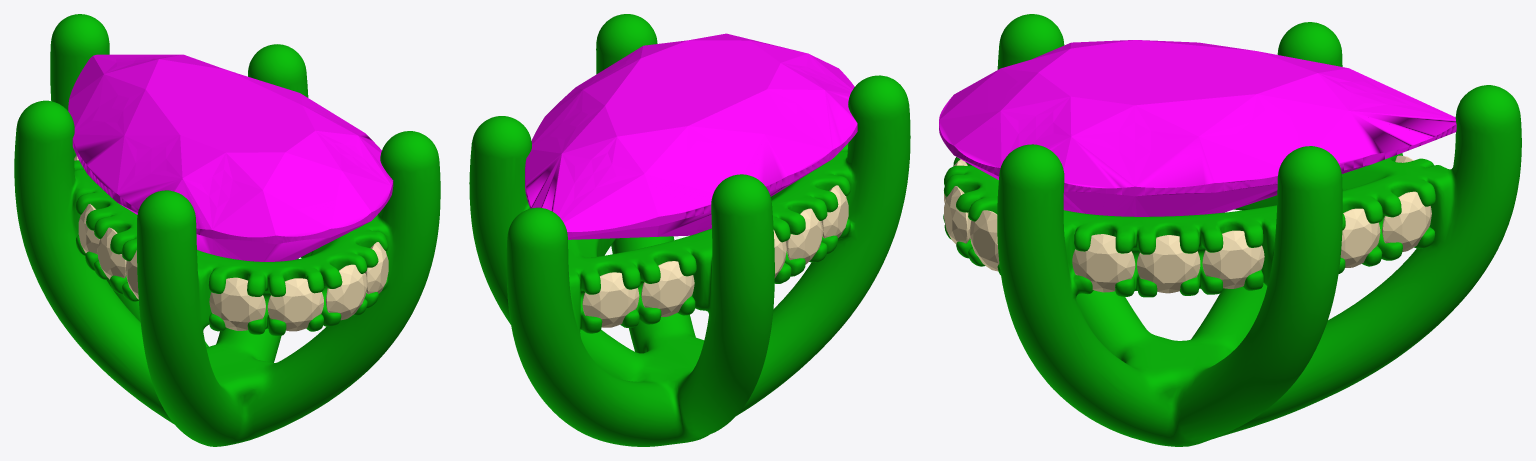
3 renders of one model, left to right at view 1: azimuth 30°, elevation 25°; view 2: azimuth 150°, elevation 25°; view 3: azimuth 270°, elevation 25°, orthographic. The views are drawn at different scales.
Visible parts, largest first — view 1: Metal01, Diamond_Pear, Diamond_Round.011, Diamond_Round.010, Diamond_Round.012, Diamond_Round.005, Diamond_Round.013, Diamond_Round.004; view 2: Metal01, Diamond_Pear, Diamond_Round.002, Diamond_Round.003, Diamond_Round.005, Diamond_Round.006; view 3: Metal01, Diamond_Pear, Diamond_Round.009, Diamond_Round.008, Diamond_Round.007, Diamond_Round.001, Diamond_Round, Diamond_Round.013, Diamond_Round.012.
Boxes of the visible parts, x1,y1,x2,y2 form: Metal01: (14,14,440,446); Diamond_Pear: (68,54,393,261); Diamond_Round.011: (267,278,323,331); Diamond_Round.010: (209,277,265,330); Diamond_Round.012: (325,264,367,320); Diamond_Round.005: (97,227,126,279); Diamond_Round.013: (365,242,388,294); Diamond_Round.004: (78,204,99,254); Metal01: (469,14,910,446); Diamond_Pear: (525,33,857,239); Diamond_Round.002: (582,272,639,327); Diamond_Round.003: (641,261,694,316); Diamond_Round.005: (786,208,823,264); Diamond_Round.006: (821,185,848,238); Metal01: (943,14,1521,446); Diamond_Pear: (939,40,1456,216); Diamond_Round.009: (1072,234,1135,292); Diamond_Round.008: (1137,235,1200,293); Diamond_Round.007: (1202,230,1264,288); Diamond_Round.001: (1382,191,1431,251); Diamond_Round: (1340,208,1380,267); Diamond_Round.013: (969,210,999,271); Diamond_Round.012: (944,186,971,244).
Bounding box in the file's own units: 5.89 × 6.34 × 9.16.
